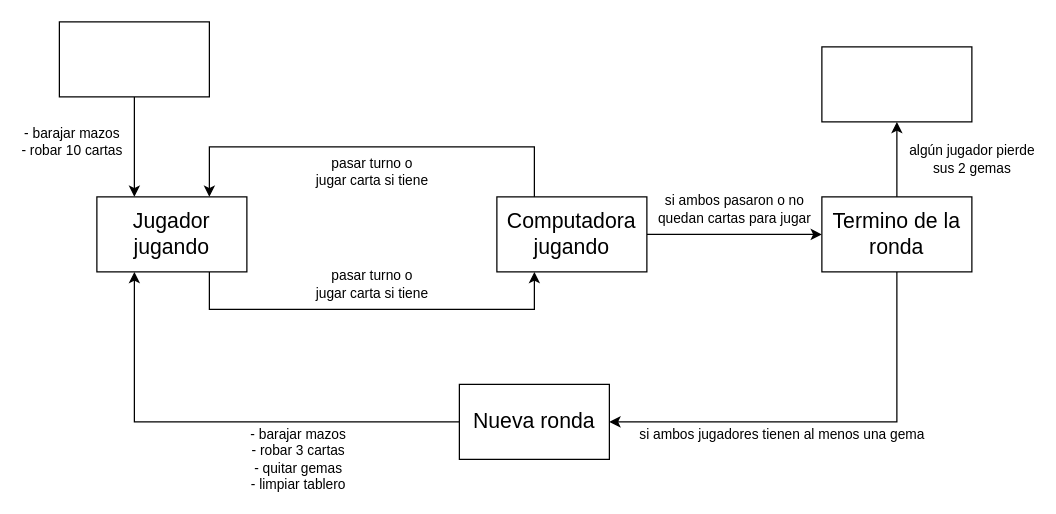
Image size: 1056x514. Some labels were removed from this diagram. The centre of each missing label's shape, as x and y in pixels:
estado inicial de la partida: the point at 133,59
Termino del juego: the point at 896,84
